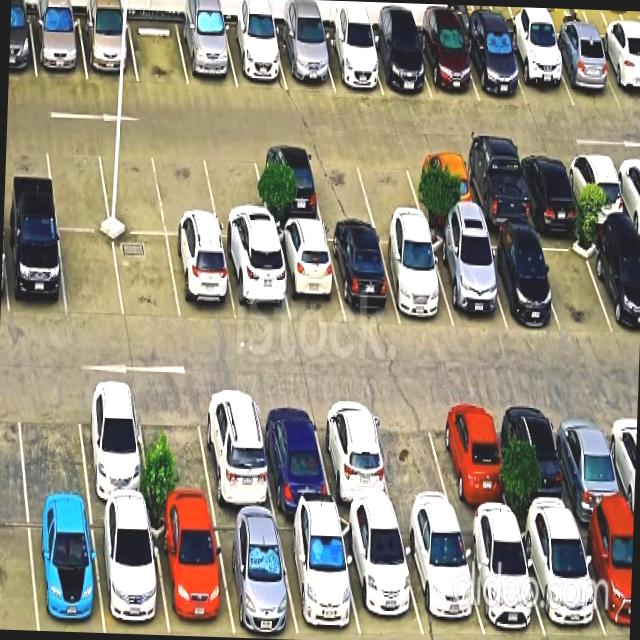car: (212, 512, 298, 637), (276, 515, 361, 640), (517, 520, 605, 640), (458, 519, 545, 638), (150, 510, 233, 634), (338, 516, 423, 637), (398, 520, 484, 636), (431, 399, 512, 520), (312, 398, 394, 516), (27, 506, 103, 633), (91, 507, 168, 632), (550, 401, 630, 520), (196, 390, 274, 512), (255, 394, 333, 512), (76, 384, 150, 507), (500, 399, 575, 520), (428, 233, 507, 329), (479, 234, 558, 328), (377, 230, 453, 327), (575, 519, 633, 640), (325, 228, 399, 322), (273, 227, 344, 324), (3, 222, 66, 317), (167, 236, 236, 321), (221, 239, 290, 323), (459, 152, 532, 229), (587, 231, 640, 337), (548, 35, 620, 108), (253, 147, 322, 223), (408, 151, 477, 226), (505, 35, 574, 106), (515, 152, 581, 225), (564, 152, 629, 226), (462, 30, 527, 103), (416, 30, 479, 100), (223, 23, 287, 90), (367, 31, 431, 98), (176, 20, 237, 88), (319, 30, 382, 95), (78, 16, 137, 81), (29, 15, 87, 79), (275, 28, 334, 90), (596, 39, 640, 109)
free: (368, 399, 456, 518), (136, 388, 214, 510), (16, 384, 88, 504), (534, 231, 614, 330), (202, 145, 271, 238), (97, 141, 165, 234), (153, 144, 219, 235), (113, 233, 180, 322), (45, 138, 110, 229), (58, 230, 123, 317), (355, 149, 424, 222), (307, 148, 375, 222), (128, 17, 188, 85)
